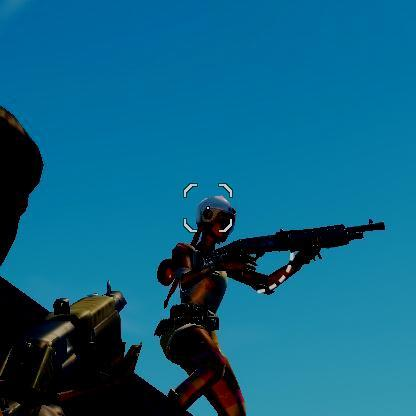person: (182, 210, 258, 390), (155, 304, 251, 416)
